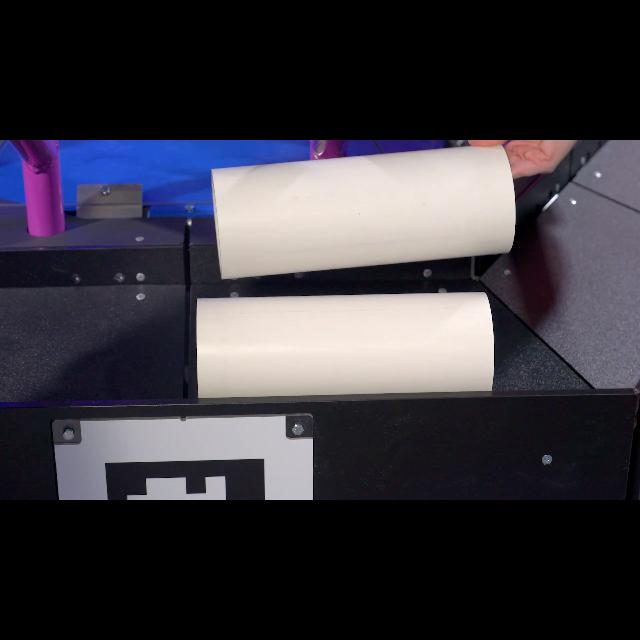CORAL: (210, 144, 516, 280), (195, 291, 495, 399)
